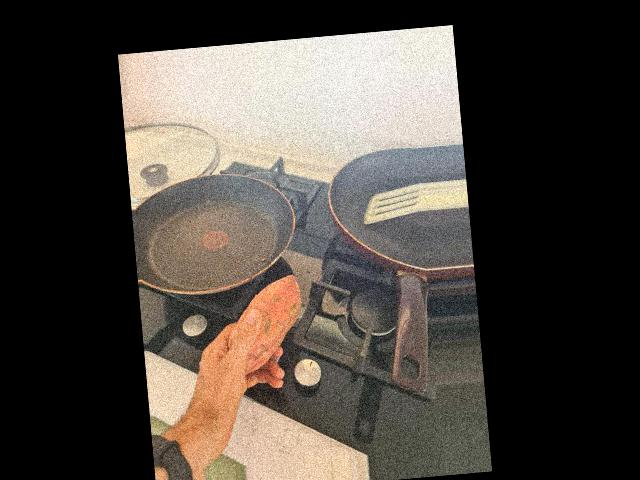sweet_potato: (225, 274, 307, 376)
